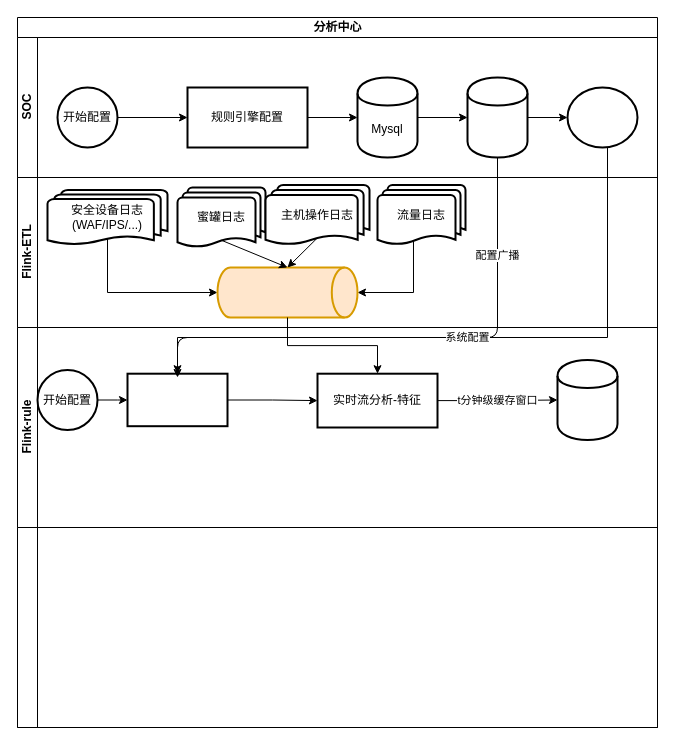
The diagram is 675 pixels wide and 745 high, and some of its shapes have lost their labels. The centre of each missing label's shape, as x and y in pixels:
"Flink-grade" goes at (x=337, y=627).
"Hbase" goes at (x=587, y=399).
"kafka" goes at (x=287, y=292).
"Redis" goes at (x=497, y=117).
"完成配置" goes at (x=602, y=117).
"实时流配置" goes at (x=177, y=399).
